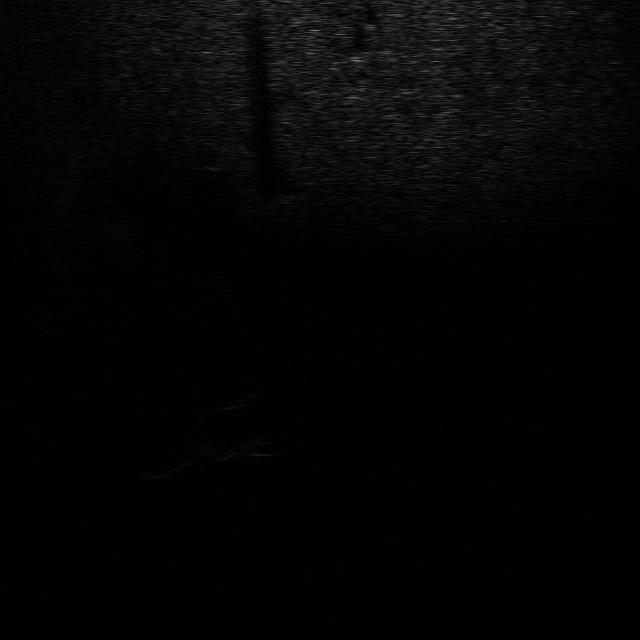ball: (206, 380, 260, 411)
square cage: (135, 444, 226, 476)
tyre: (206, 424, 282, 461)
